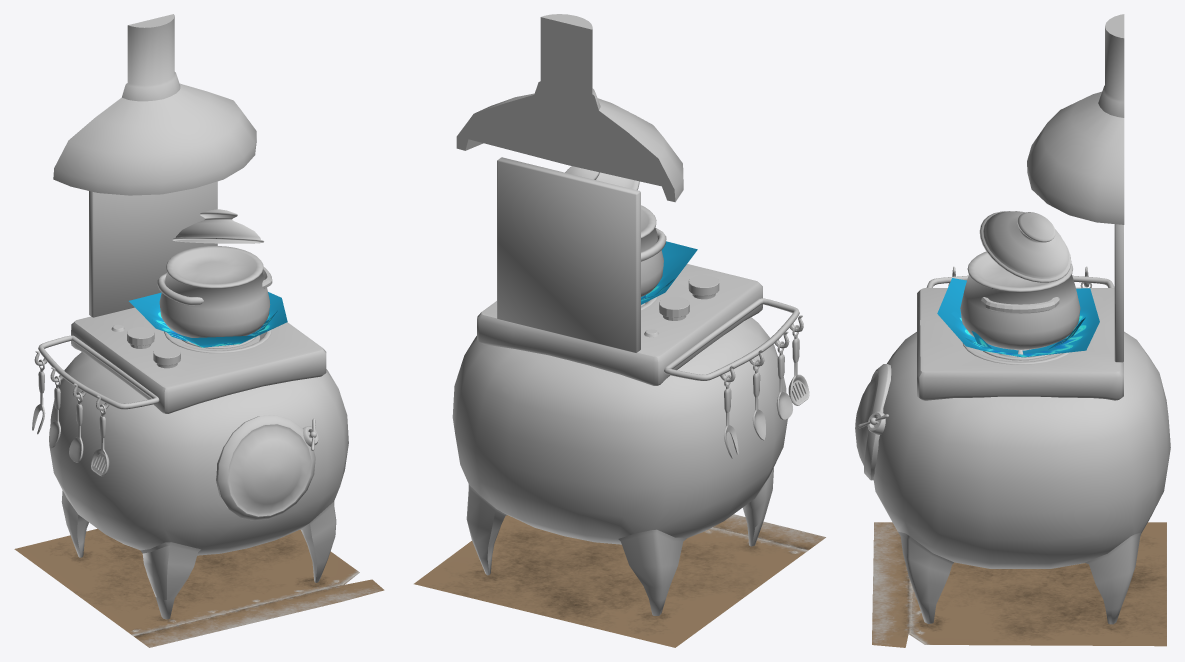
Rendered from CuteStove_Final.FBX.
The picture shows the model from 3 angles, left to right: view 1: azimuth 30°, elevation 25°; view 2: azimuth 150°, elevation 25°; view 3: azimuth 270°, elevation 25°; orthographic projection. The views are drawn at different scales.
Visible parts, largest first — view 1: CuteStove12_LP, Floor, Flame_FX; view 2: CuteStove12_LP, Floor, Flame_FX; view 3: CuteStove12_LP, Floor, Flame_FX.
Boxes of the visible parts, <box> form: CuteStove12_LP: <box>32,14,348,619</box>; Floor: <box>14,528,384,647</box>; Flame_FX: <box>129,292,287,347</box>; CuteStove12_LP: <box>452,14,809,615</box>; Floor: <box>414,514,825,647</box>; Flame_FX: <box>641,241,697,304</box>; CuteStove12_LP: <box>855,14,1170,624</box>; Floor: <box>872,522,1166,647</box>; Flame_FX: <box>937,278,1099,357</box>.
Size of the model in its own units: 112 by 210 by 108.
